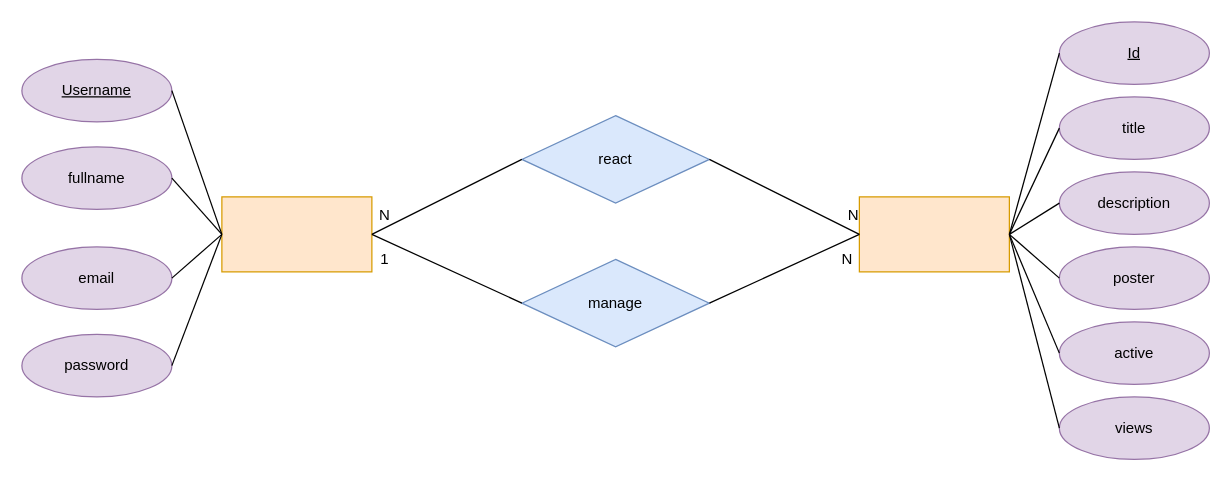
The diagram is 1231 pixels wide and 481 high, and some of its shapes have lost their labels. The shapes that lost their labels are listed below. From the top down, each one's centre as x and y in pixels, then its label:
pixel 296 234: User
pixel 933 234: Video
